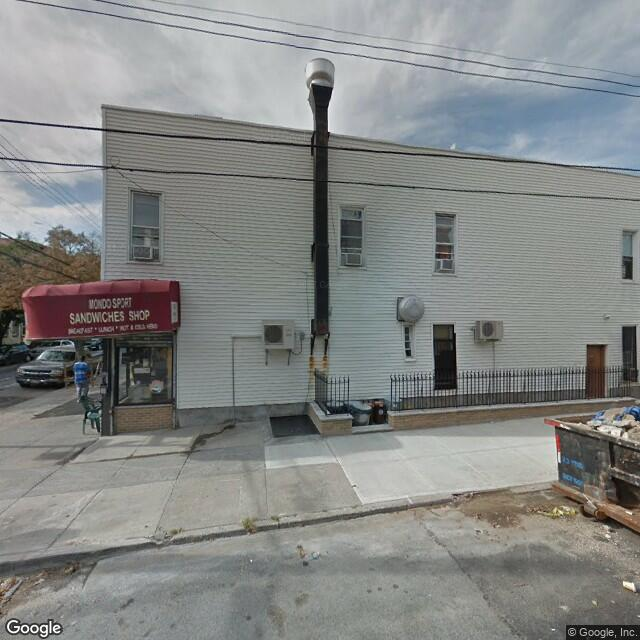litter: (538, 498, 583, 521), (595, 521, 616, 548), (618, 574, 640, 591)
